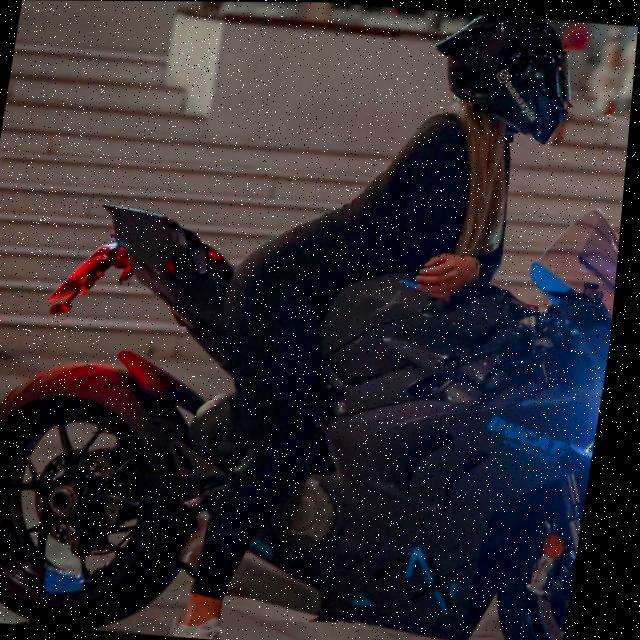helmet: (414, 9, 589, 151)
